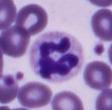N: (28, 31, 84, 81)
